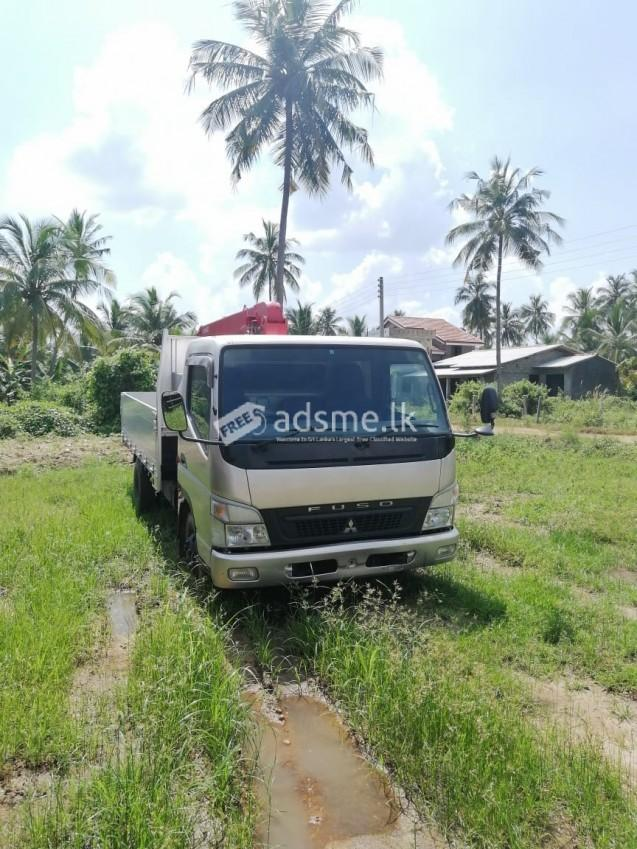truck: (119, 301, 496, 593)
